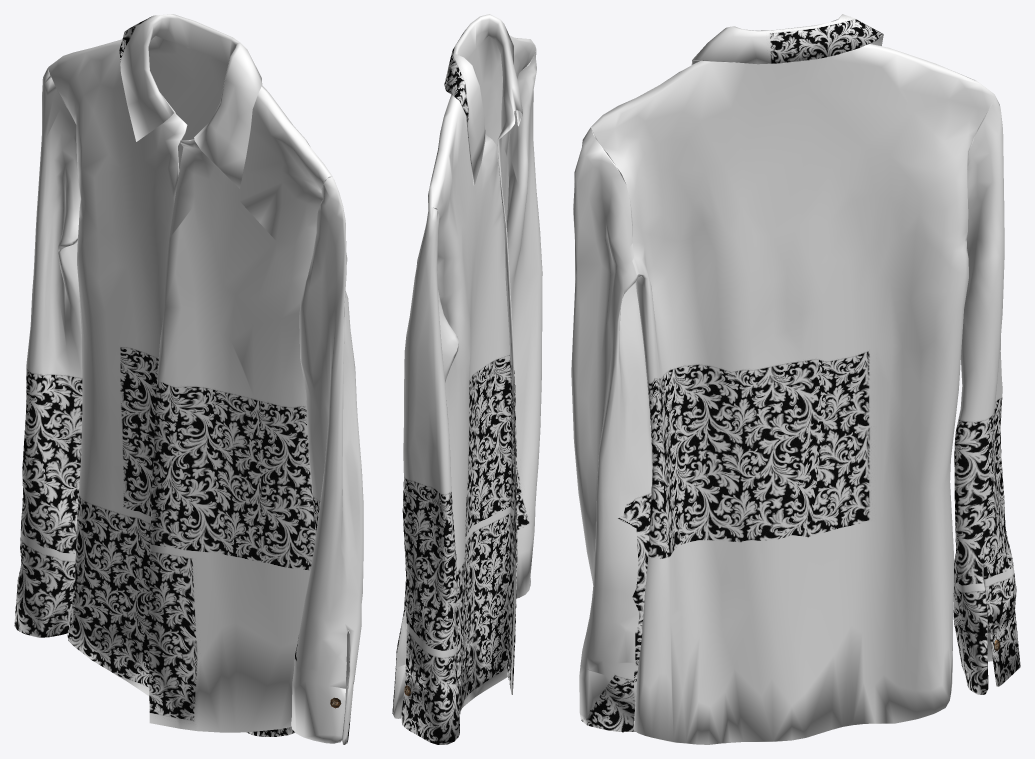
The model's file is rod-shirt06.glb.
The picture shows the model from 3 angles, left to right: view 1: azimuth 30°, elevation 25°; view 2: azimuth 150°, elevation 25°; view 3: azimuth 270°, elevation 25°; orthographic projection. The views are drawn at different scales.
Parts seen in each view (by area): view 1: shirt06.001; view 2: shirt06.001; view 3: shirt06.001.
Part boxes in pixels (x1,y1,x2,y2): shirt06.001: [14, 14, 363, 744]; shirt06.001: [392, 14, 542, 744]; shirt06.001: [571, 14, 1020, 744].
Bounding box in the file's own units: 0.2062 × 0.875 × 0.4995.
2 materials, 2 textured.
